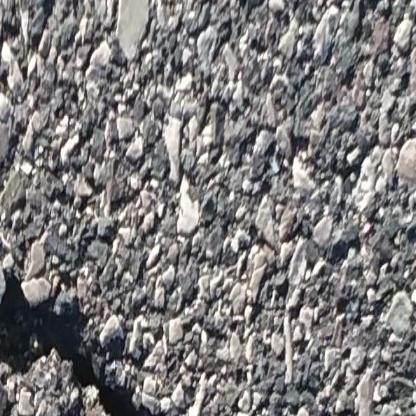Cracks: (0, 275, 174, 416)
